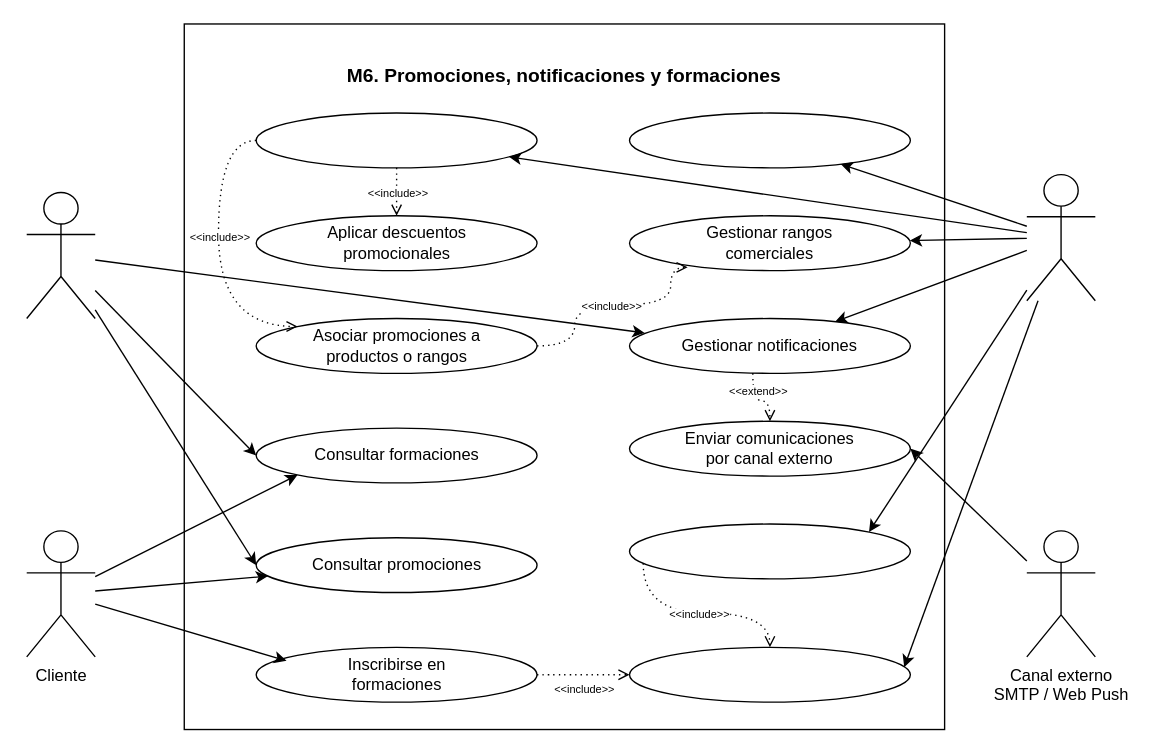
This 1152x754 diagram has some shape labels left out. The shapes that lost their labels are listed below. From the top down, each one's centre as x and y in pixels, then its label:
At point 396,140: "Gestionar promociones comerciales".
At point 769,140: "Programar recordatorios".
At point 60,255: "Comercial".
At point 1060,237: "Admin".
At point 769,551: "Gestionar formaciones".
At point 769,674: "Gestionar inscripciones y cupos".
